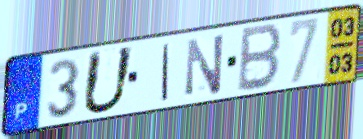3: (45, 57, 83, 120)
7: (287, 16, 324, 85)
B: (235, 21, 284, 95)
I: (160, 42, 172, 103)
N: (184, 31, 226, 98)
U: (79, 44, 137, 117)
